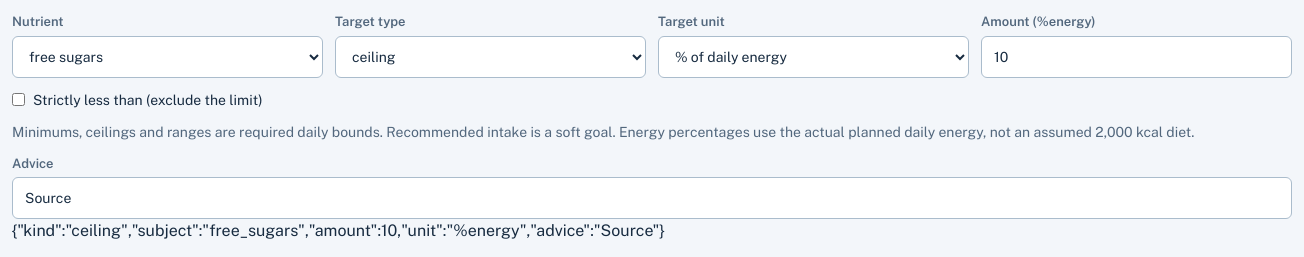
Test case: target editor preserves percentage units across bound changes and clears incompatible values
Click the checkbox labelled "Strictly less than (exclude the limit)": coordinates (18, 100) [12,93,25,106]
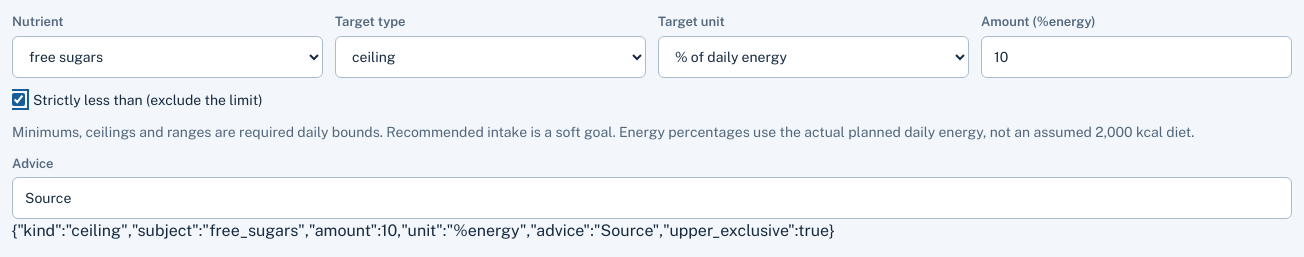
Now the text "\"upper_exclusive\":true" is shown, box [12,221,834,240]
Select "Minimum (required)" in the dropdown labelled "Target type": coordinates (490, 56) [335,36,646,78]
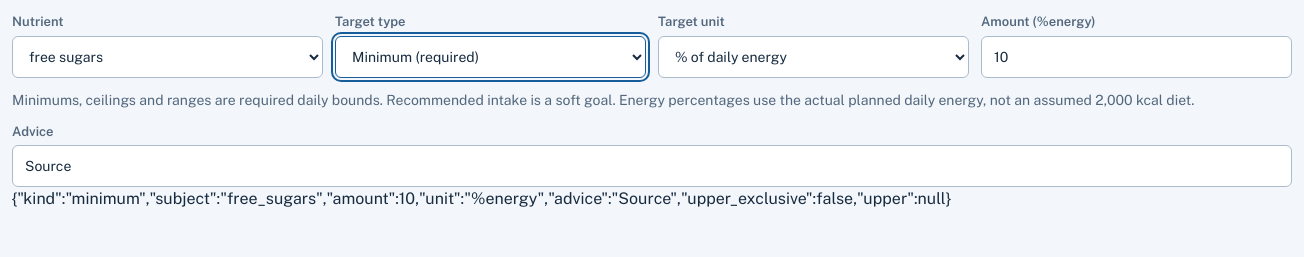
Expected: the dropdown labelled "Target unit" shows "% of daily energy", [658,36,969,78]
Now the text "\"upper_exclusive\":false" is shown, box [12,189,951,208]
Select "fruit and vegetables" in the dropdown labelled "Nutrient": coordinates (168, 56) [12,36,323,78]
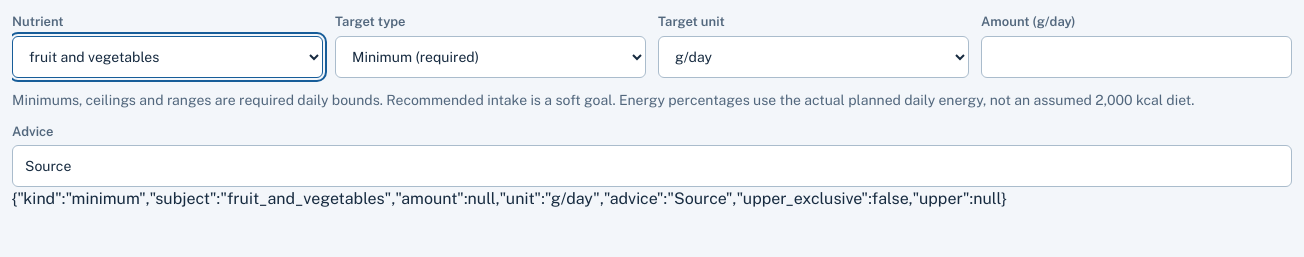
Expected: the option "% of daily energy" is not shown
Now the dropdown labelled "Target unit" shows "g/day", box [658,36,969,78]
Now the number field labelled "Amount (g/day)" is empty, box [981,36,1292,78]
